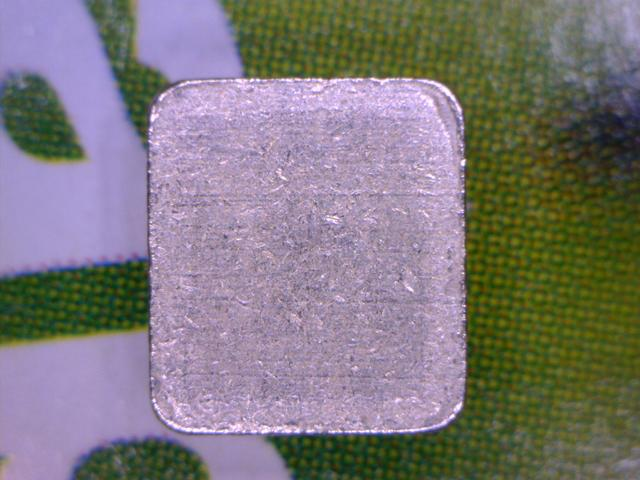ok: (138, 72, 479, 437)
